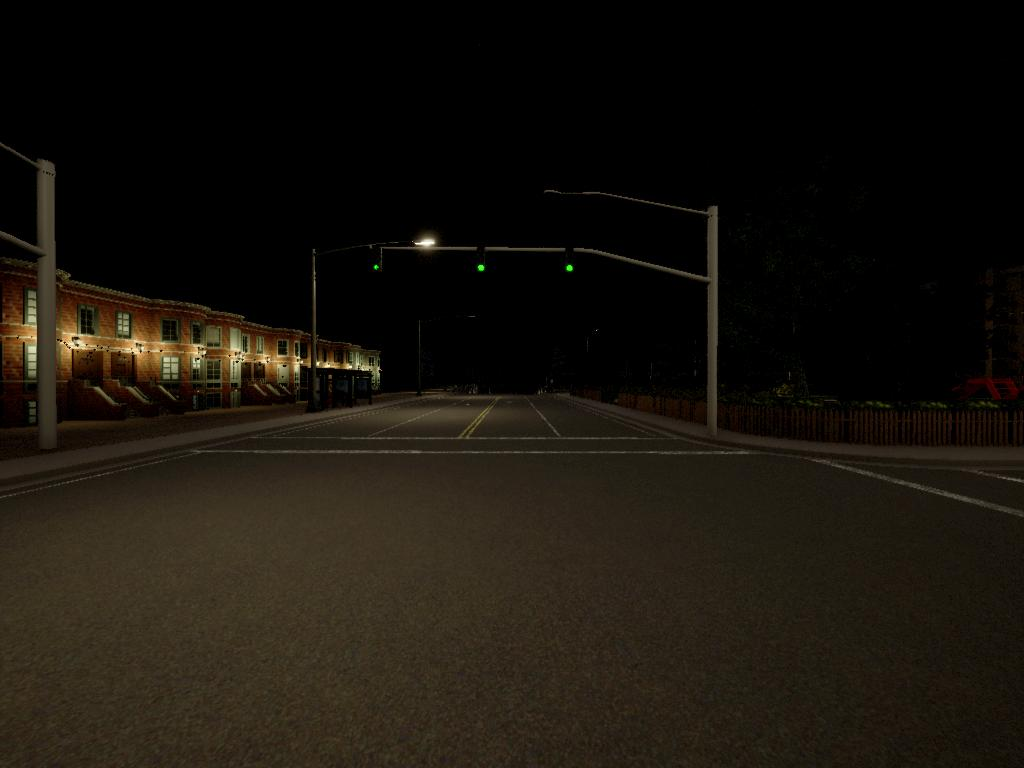traffic_light: (476, 247, 490, 275), (371, 249, 386, 275), (563, 251, 577, 278)
